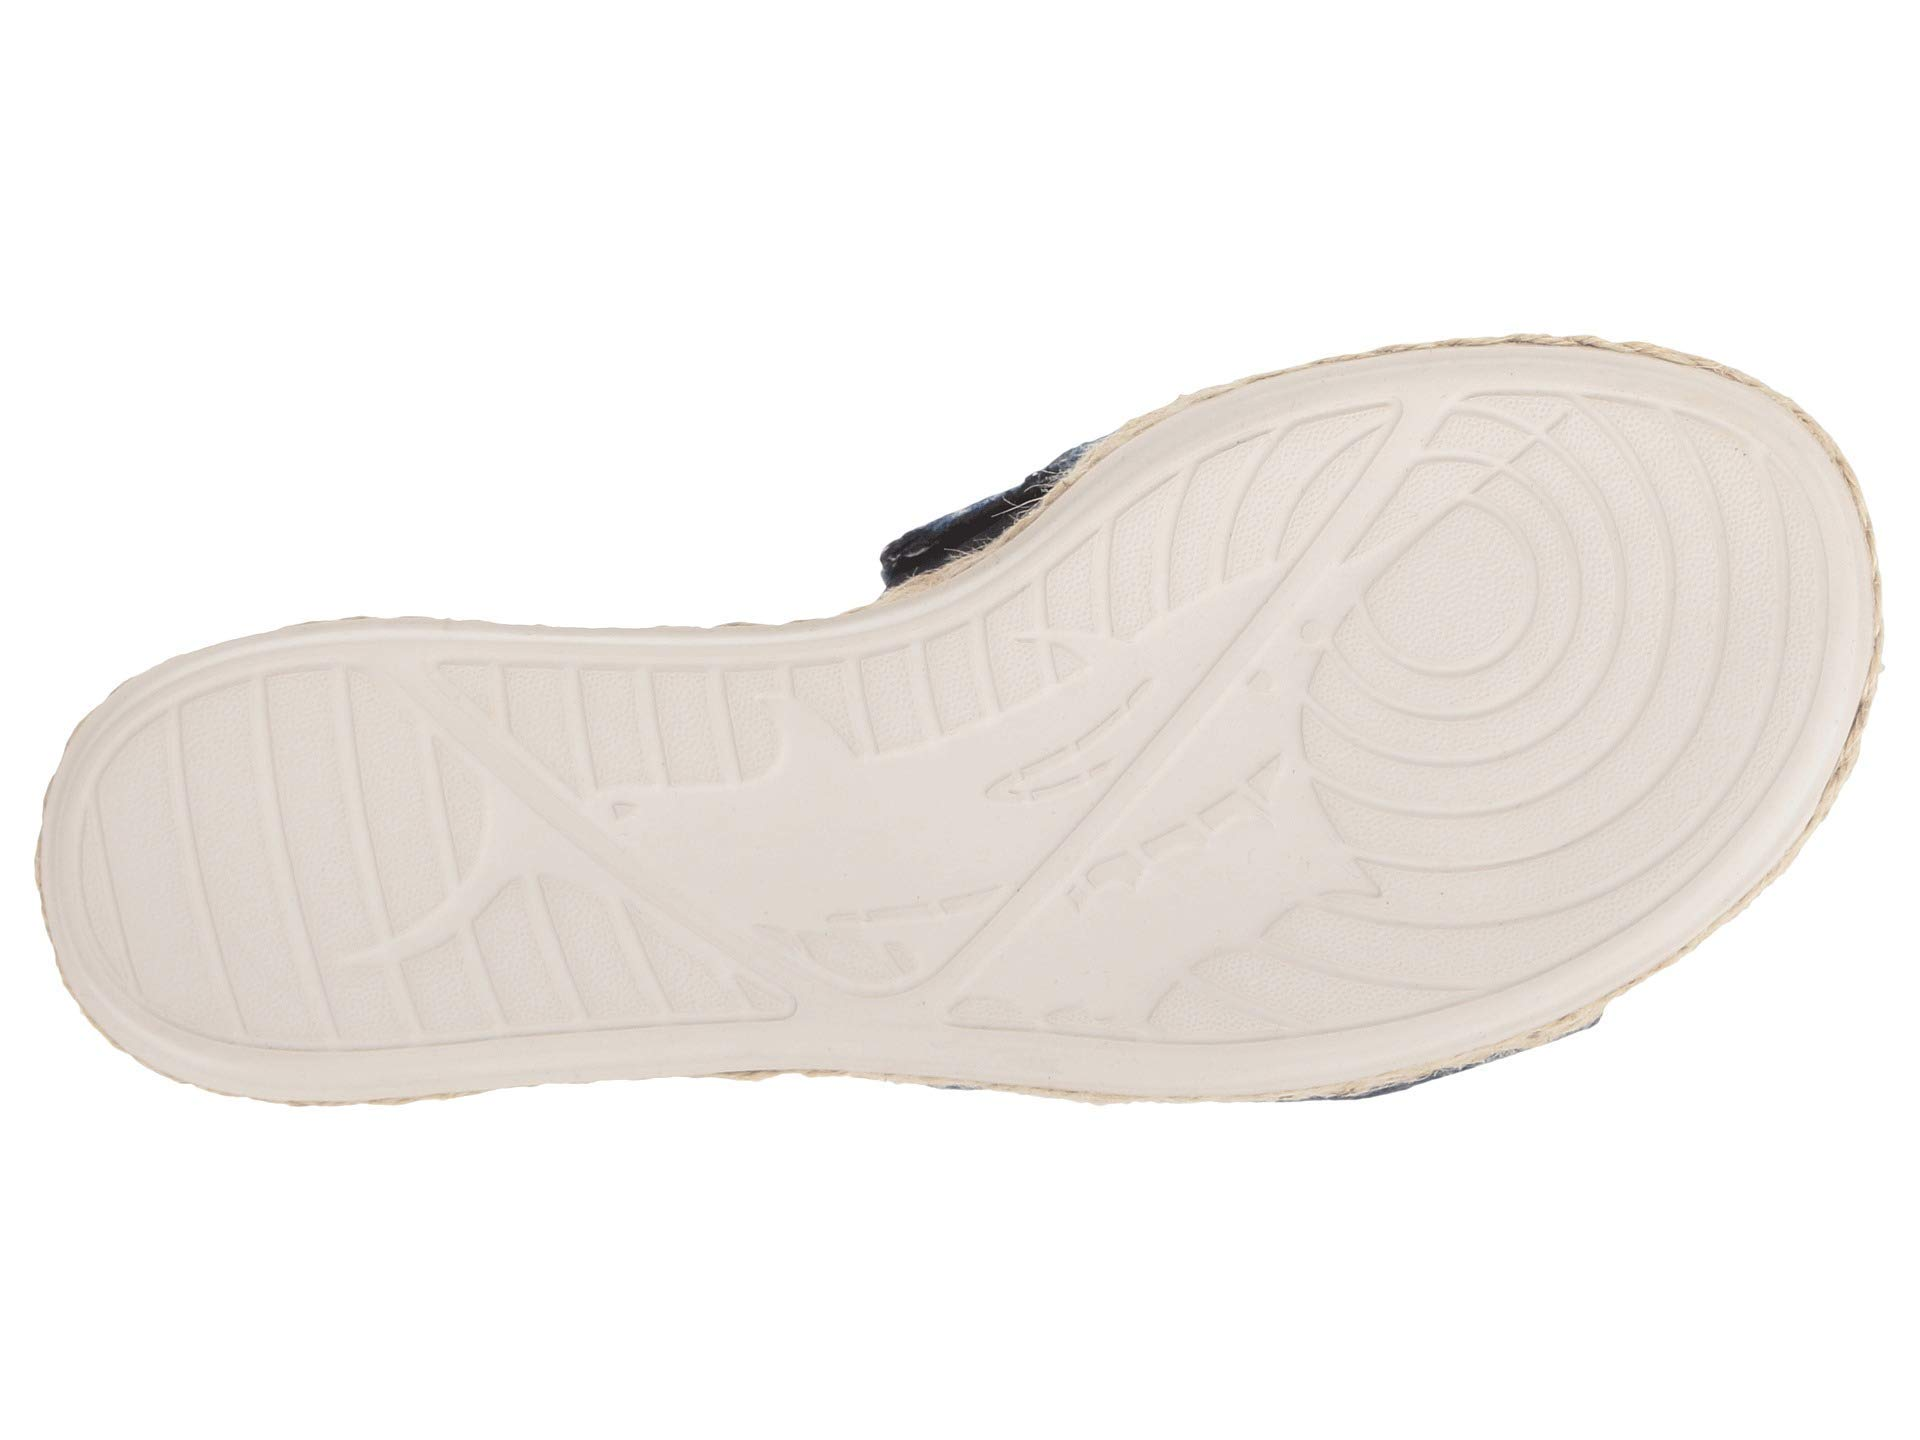chevron: (955, 601, 1185, 841)
circle: (1277, 437, 1627, 768)
line: (1277, 437, 1627, 768), (955, 601, 1185, 841), (562, 641, 759, 874)
quad: (446, 841, 662, 1054), (562, 641, 759, 874)
triangle: (955, 601, 1185, 841), (562, 641, 759, 874)
